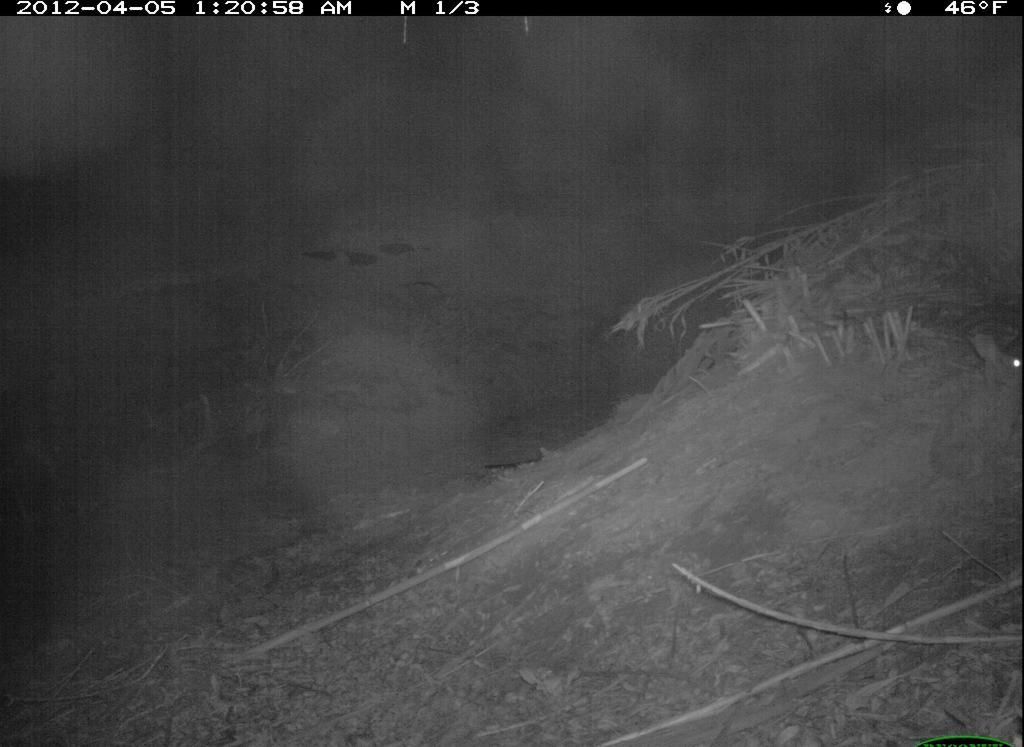rabbit: (961, 323, 1023, 395)
